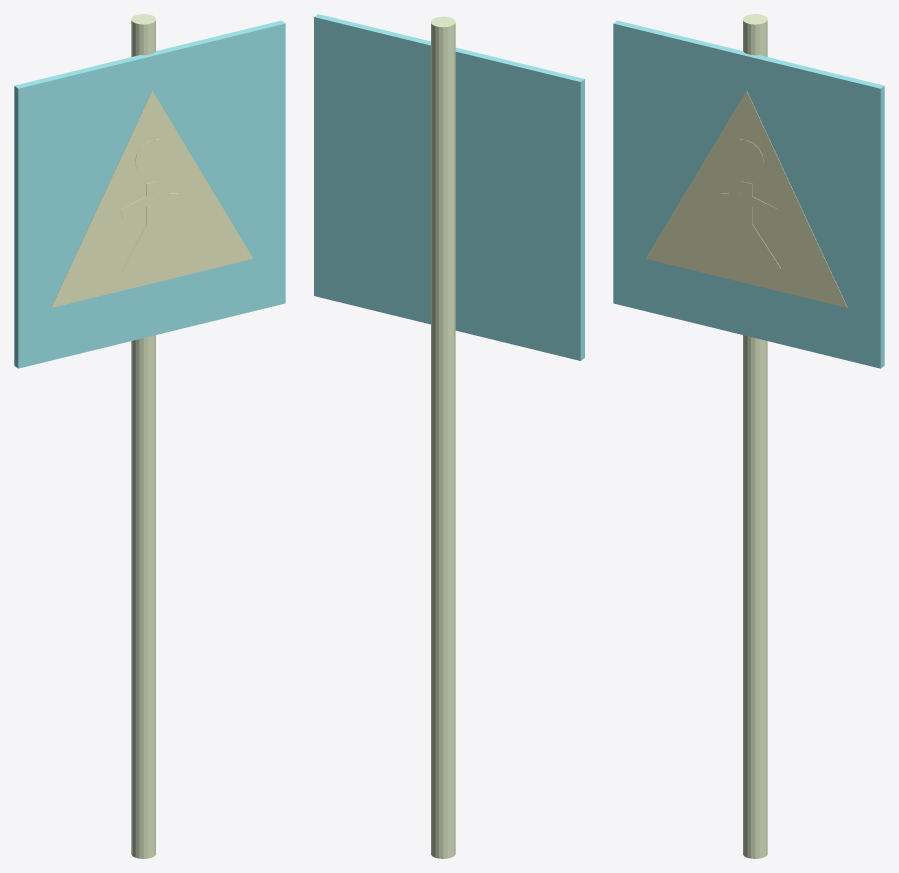
Rendered from sign_pedestrian_crossing.glb.
3 renders of one model, left to right at view 1: azimuth 30°, elevation 25°; view 2: azimuth 150°, elevation 25°; view 3: azimuth 330°, elevation 25°, orthographic.
Visible parts, largest first — view 1: plate_base_00, layer_1_00, pole, layer_2_00, layer_2_04; view 2: plate_base_00, pole; view 3: plate_base_00, layer_1_00, pole, layer_2_00, layer_2_04, layer_2_05.
Boxes of the visible parts, x1,y1,x2,y2 form: plate_base_00: [14, 20, 285, 368]; layer_1_00: [51, 90, 252, 307]; pole: [131, 14, 155, 858]; layer_2_00: [135, 139, 169, 176]; layer_2_04: [121, 221, 156, 275]; plate_base_00: [314, 14, 584, 360]; pole: [431, 16, 455, 858]; plate_base_00: [613, 20, 884, 368]; layer_1_00: [646, 90, 847, 307]; pole: [743, 14, 767, 858]; layer_2_00: [729, 139, 763, 176]; layer_2_04: [715, 220, 749, 264]; layer_2_05: [746, 221, 780, 272].
Size of the model in its own units: 0.738 by 2.2 by 0.0725.
